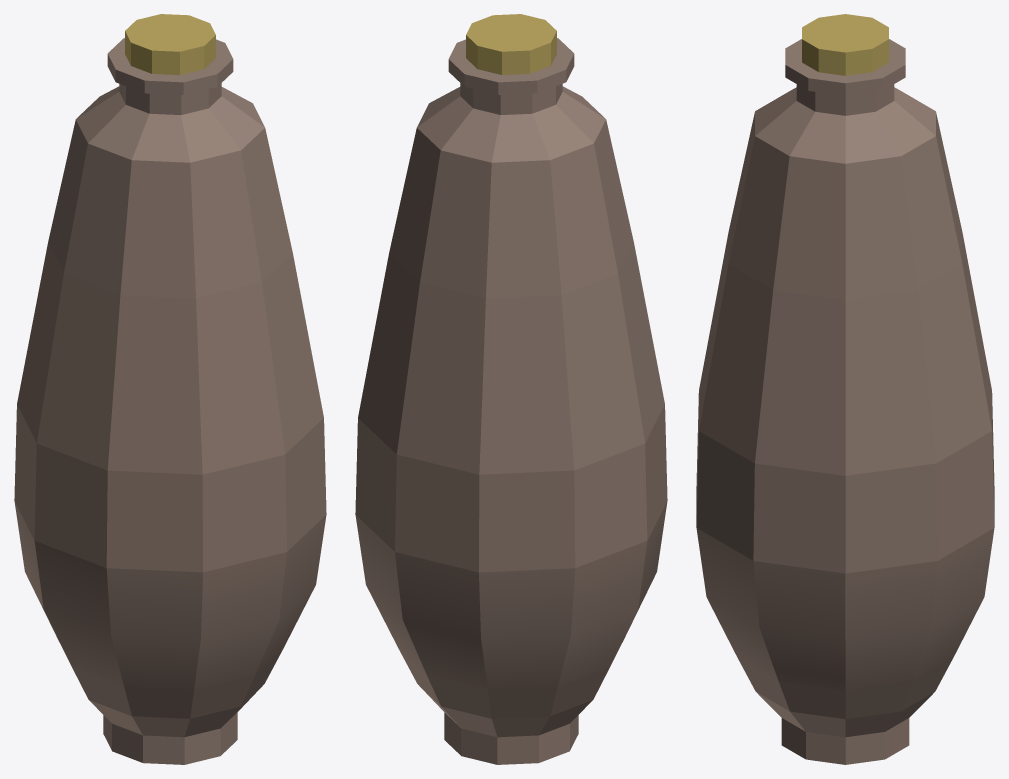
File: VasoDeBarro02.fbx
3 renders of one model, left to right at view 1: azimuth 30°, elevation 25°; view 2: azimuth 150°, elevation 25°; view 3: azimuth 270°, elevation 25°, orthographic.
Parts seen in each view (by area): view 1: Barro02, Tampa02; view 2: Barro02, Tampa02; view 3: Barro02, Tampa02.
Part boxes in pixels (left/top/right/bottom): Barro02: left=14, top=38, right=326, bottom=764; Tampa02: left=125, top=14, right=215, bottom=74; Barro02: left=355, top=38, right=667, bottom=764; Tampa02: left=466, top=14, right=556, bottom=74; Barro02: left=696, top=39, right=994, bottom=764; Tampa02: left=802, top=14, right=888, bottom=75.
Size of the model in its own units: 0.3146 by 0.7789 by 0.2992.
